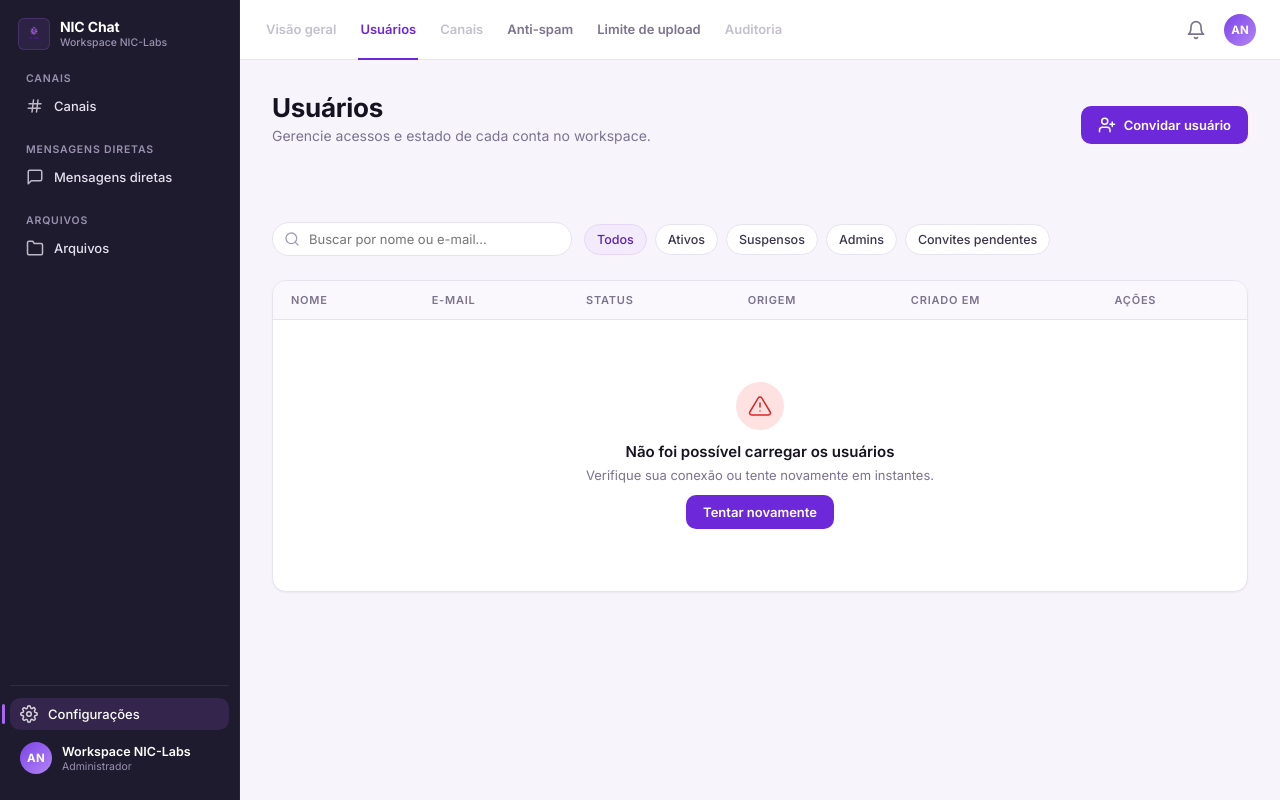
Scenario: AdminUsersPage — retry › retry refetches and renders the recovered list
Click the button "Tentar novamente". click: (760, 512)
box: [686,495,834,529]
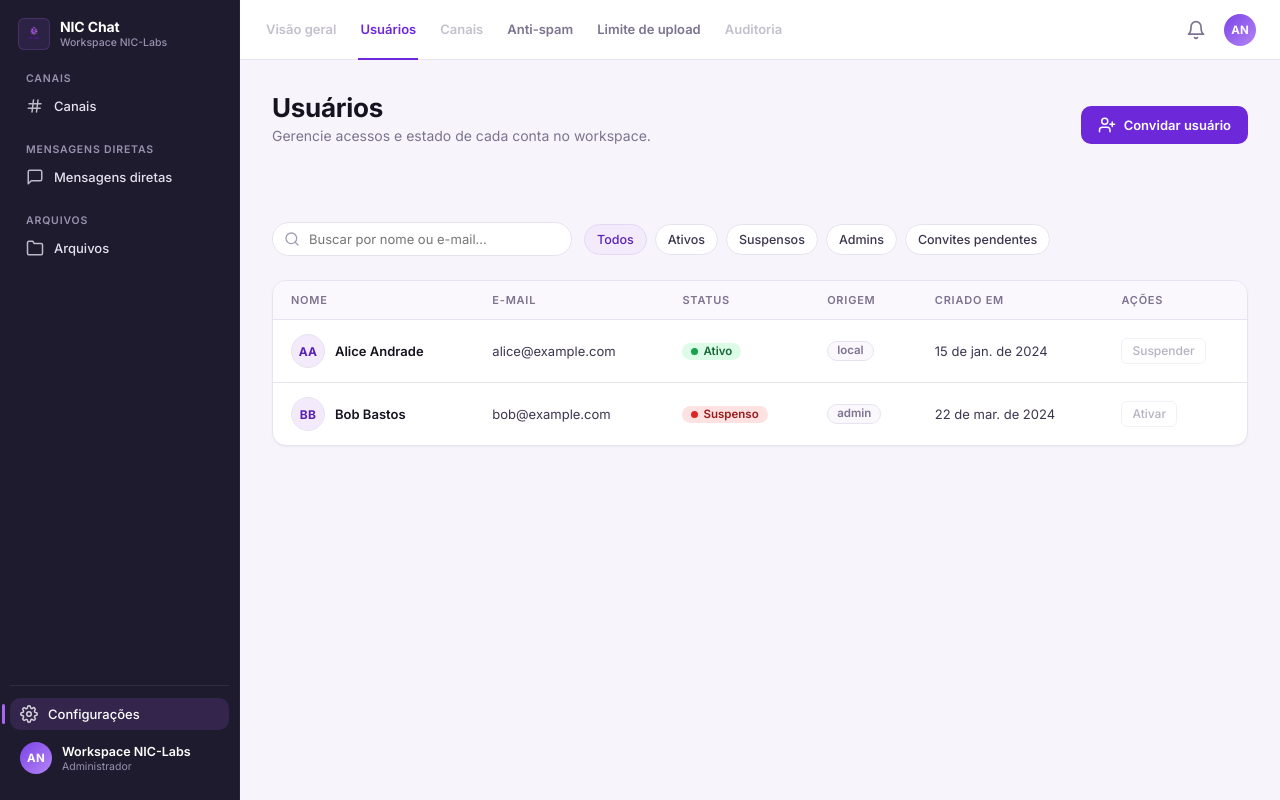
Expected: the text "Alice Andrade" is shown, [335,342,424,359]
